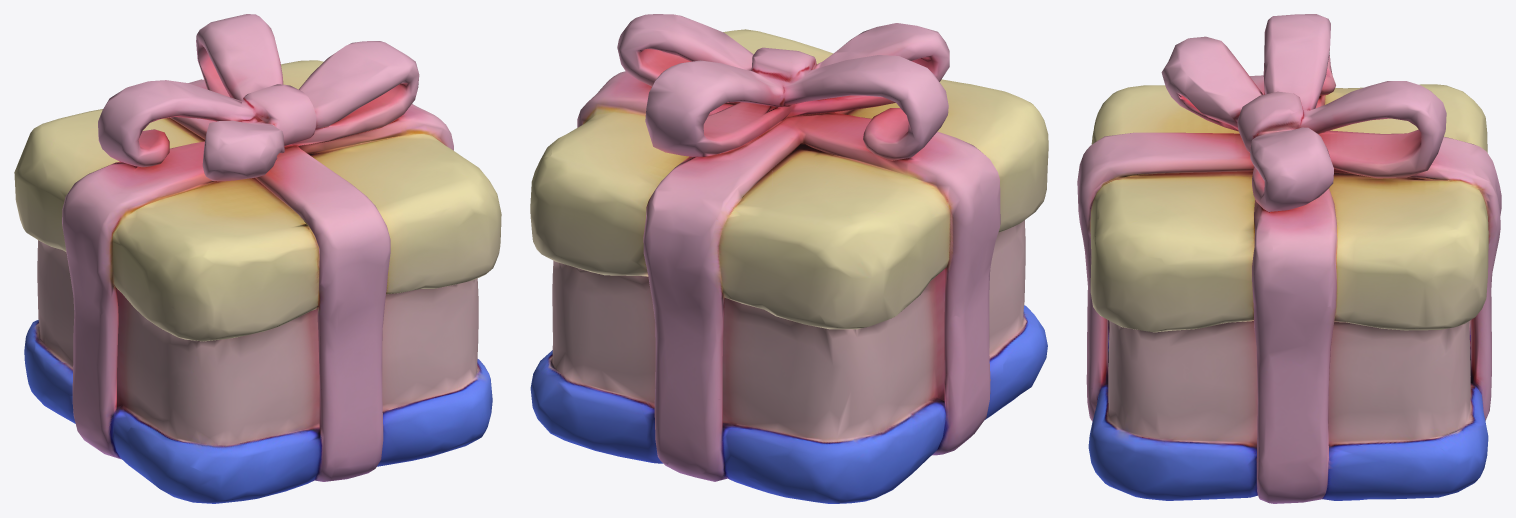
The model's file is gift_box_h3.glb.
3 views of the same model, side by side, from view 1: azimuth 30°, elevation 25°; view 2: azimuth 150°, elevation 25°; view 3: azimuth 270°, elevation 25° (orthographic). The views are drawn at different scales.
Visible parts, largest first — view 1: tripo_node_6541f1e2-2517-4eb4-8c93-5098fa293777; view 2: tripo_node_6541f1e2-2517-4eb4-8c93-5098fa293777; view 3: tripo_node_6541f1e2-2517-4eb4-8c93-5098fa293777.
Part boxes in pixels (x1=…): tripo_node_6541f1e2-2517-4eb4-8c93-5098fa293777: x1=14, y1=14, x2=501, y2=503; tripo_node_6541f1e2-2517-4eb4-8c93-5098fa293777: x1=530, y1=14, x2=1048, y2=503; tripo_node_6541f1e2-2517-4eb4-8c93-5098fa293777: x1=1077, y1=14, x2=1501, y2=503.
Size of the model in its own units: 1 by 0.9124 by 0.9755.
Materials: 1 (1 with a texture image).
